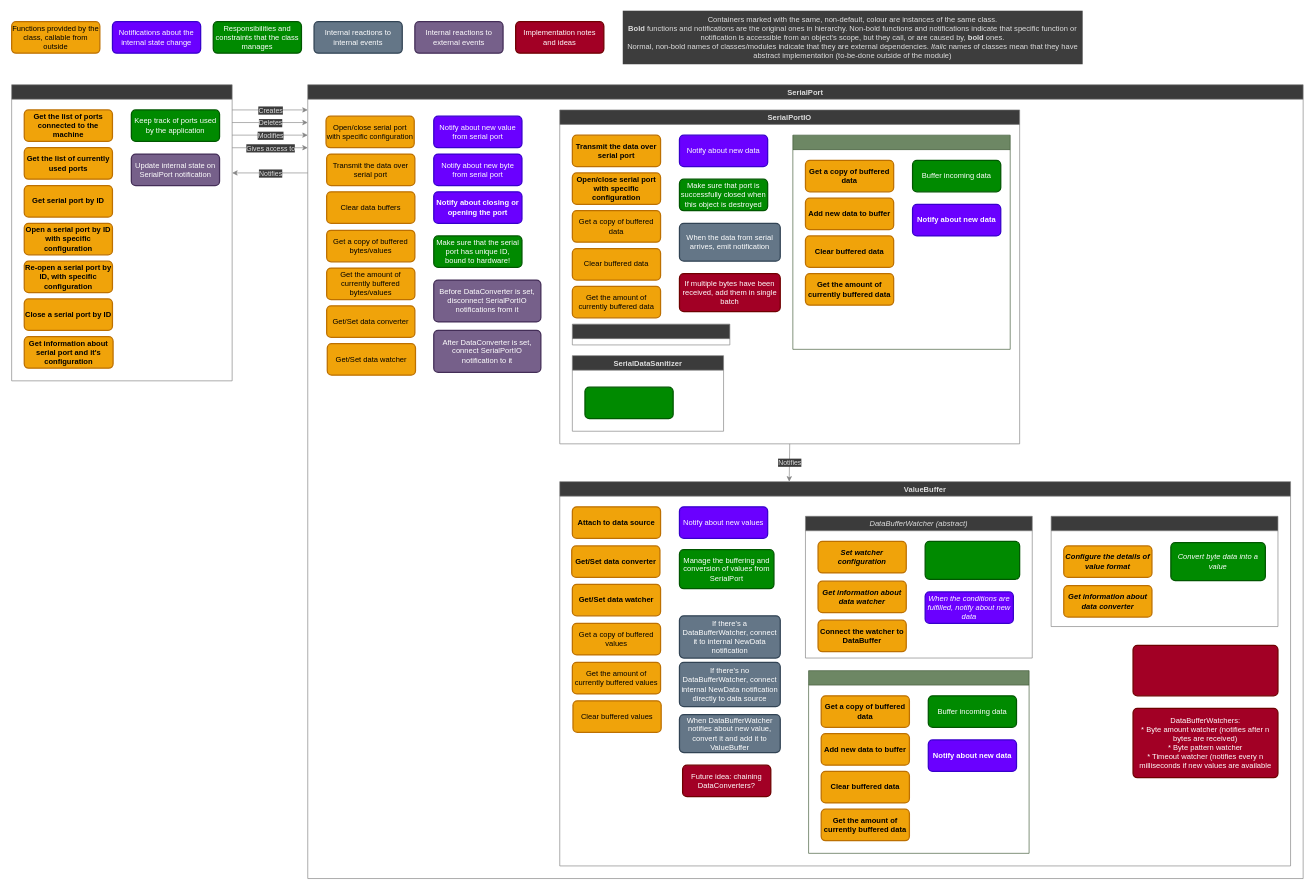
Some shapes in this 1314 by 890 pixel diagram are drawn without their labels. Here are the shapes that lost their labels. From the top down, the box of each, then its label:
(11, 84, 232, 381): SerialPortsManager
(792, 135, 1010, 349): ByteBuffer (DataBuffer)
(572, 324, 730, 345): SerialPortIOImplementation (external)
(584, 386, 673, 419): Convert the data coming from serial to bytearrays
(924, 541, 1020, 580): Watch the DataBuffer
(1051, 516, 1278, 627): DataConverter (abstract)
(1132, 644, 1278, 696): Data converters: * Bytes to base2, base10, base16 ints * Bytes to double/float
(808, 670, 1029, 853): ValueBuffer (DataBuffer)
